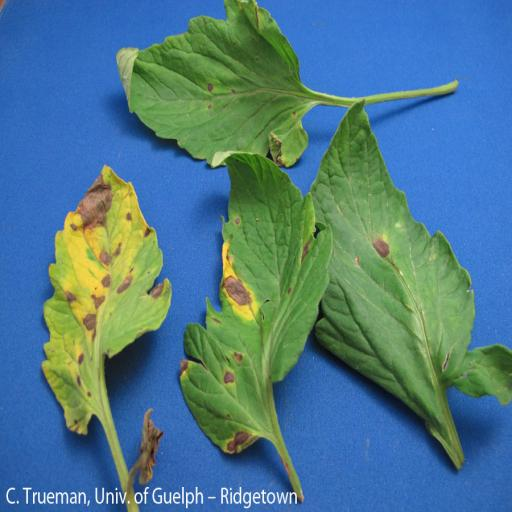disease_tomato: (312, 98, 503, 475), (178, 150, 326, 458), (36, 157, 168, 436), (112, 0, 308, 169)
